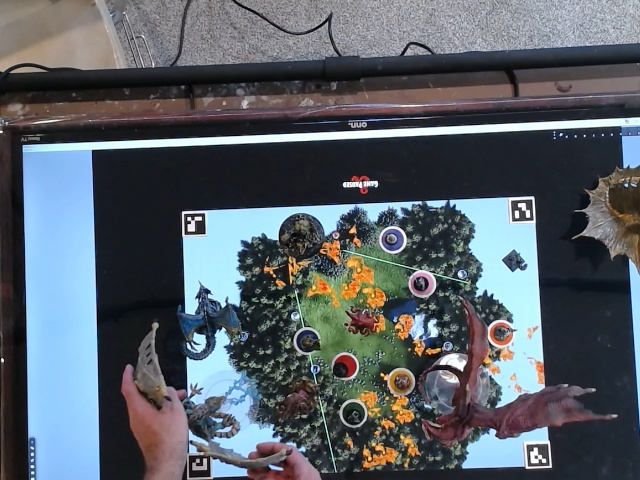blue: (290, 323, 324, 357)
green: (336, 394, 369, 426)
orange: (484, 316, 514, 346)
pink: (405, 267, 443, 301)
red: (327, 348, 360, 380)
violet: (377, 224, 409, 256)
yellow: (386, 366, 418, 397)
